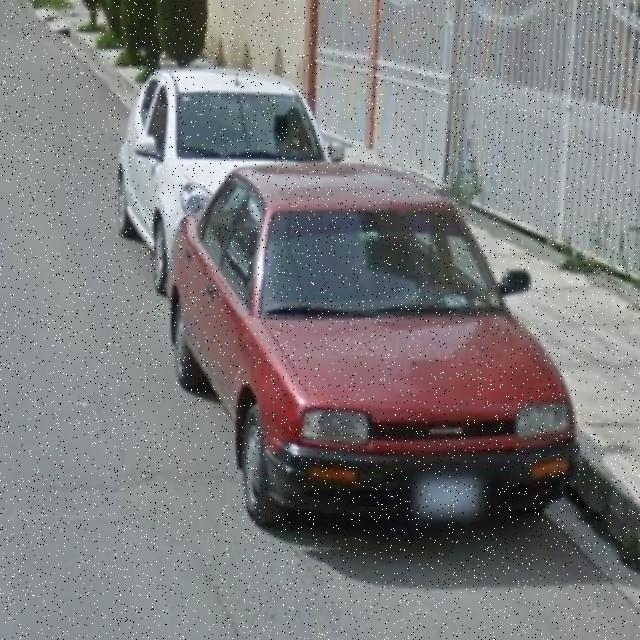cars: (169, 157, 582, 537), (111, 54, 321, 238)
